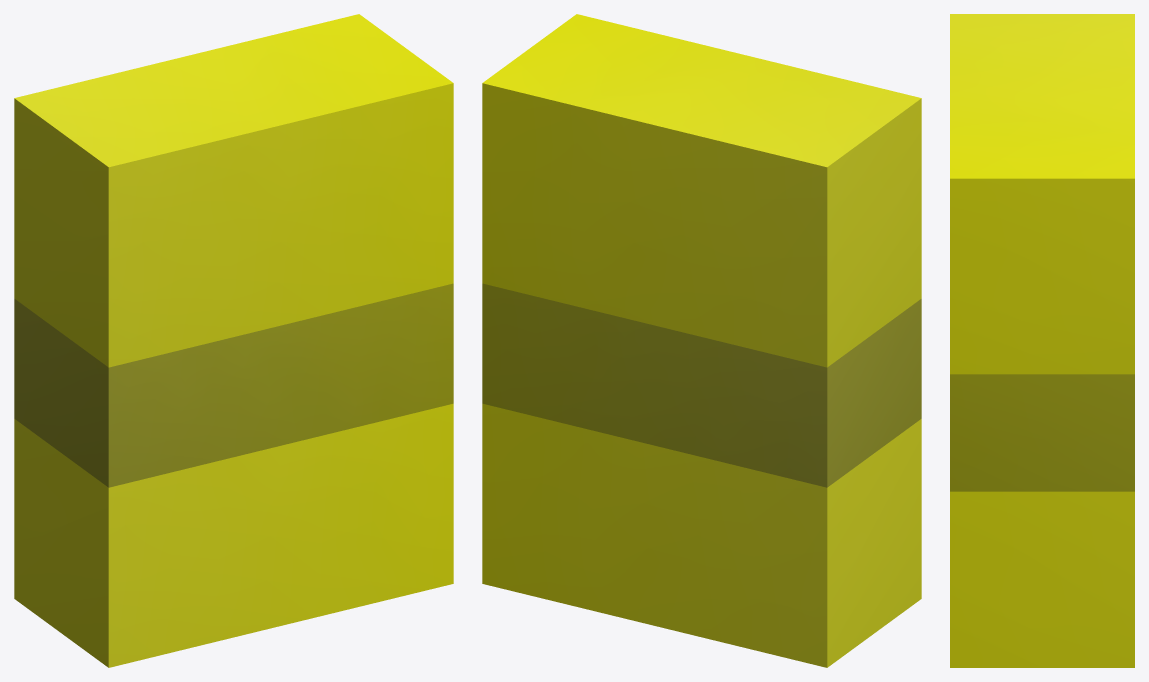
The model's file is Ürün3.fbx.
The picture shows the model from 3 angles, left to right: view 1: azimuth 30°, elevation 25°; view 2: azimuth 150°, elevation 25°; view 3: azimuth 270°, elevation 25°; orthographic projection. The views are drawn at different scales.
Visible parts, largest first — view 1: pCube70; view 2: pCube70; view 3: pCube70.
Part boxes in pixels (bbox=[...]): pCube70: bbox=[14, 14, 453, 667]; pCube70: bbox=[482, 14, 921, 667]; pCube70: bbox=[950, 14, 1134, 667].
Bounding box in the file's own units: 23.51 × 32.6 × 11.16.
